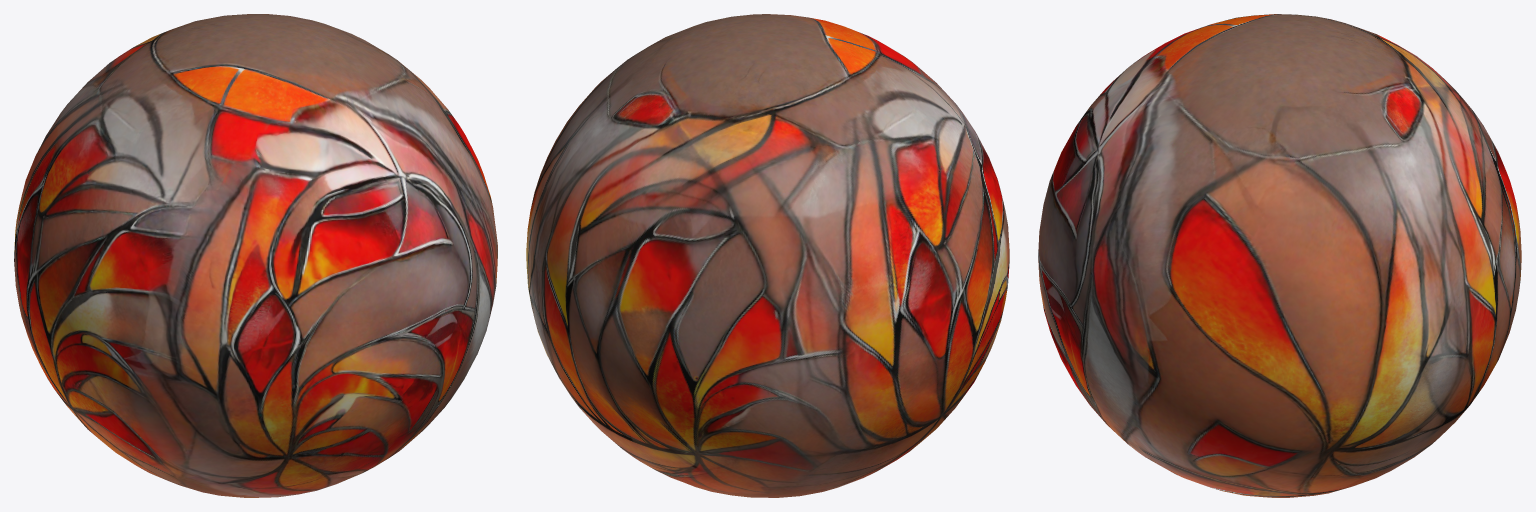
Rendered from testSphereStarRed.glb.
3 views of the same model, side by side, from view 1: azimuth 30°, elevation 25°; view 2: azimuth 150°, elevation 25°; view 3: azimuth 270°, elevation 25° (orthographic).
Parts seen in each view (by area): view 1: Mesh_0; view 2: Mesh_0; view 3: Mesh_0.
Part boxes in pixels (x1,y1,x2,y2): Mesh_0: [14, 14, 497, 497]; Mesh_0: [526, 14, 1009, 497]; Mesh_0: [1038, 14, 1521, 497].
Bounding box in the file's own units: 1 × 1 × 0.9999.
Materials: 1 (1 with a texture image).
